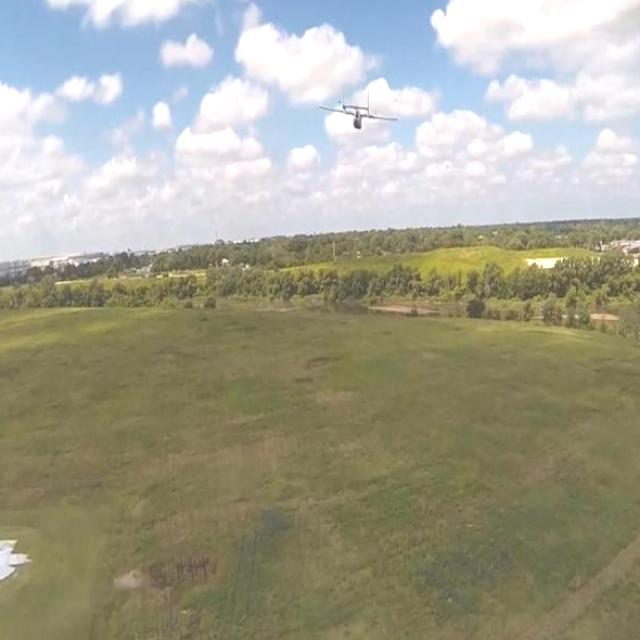plane: (316, 84, 398, 130)
